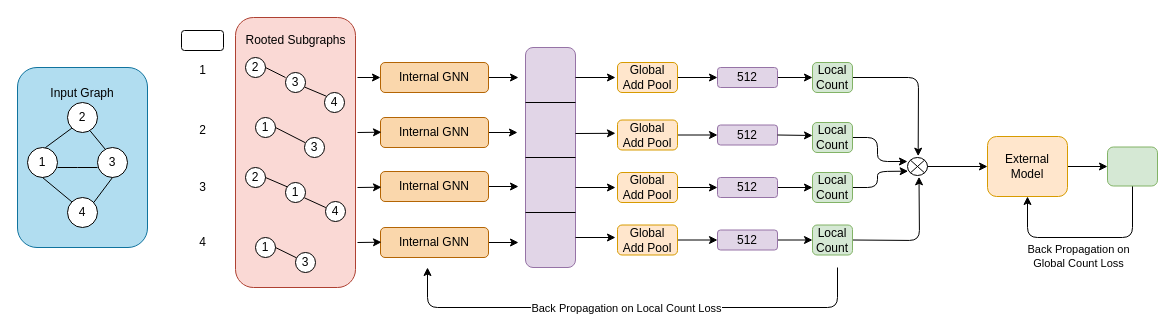
The diagram is 1175 pixels wide and 333 high, and some of its shapes have lost their labels. The shapes that lost their labels are listed below. From the top down, each one's centre as x and y in pixels, then its label:
(202,40): Root
(550,157): Emb 1 3 x 512 Emb 2 2 x 512 Emb 3 3 x 512 Emb 4 2 x 512
(1132,166): Global Count
